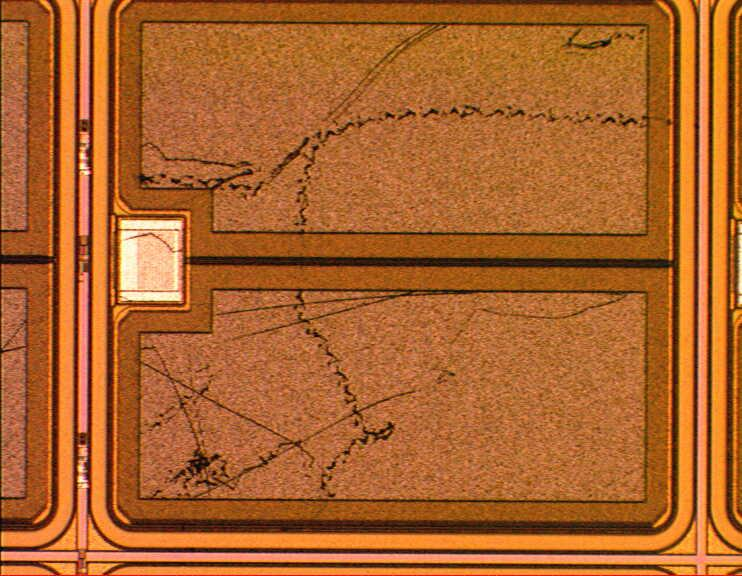SCRATCH: (1, 8, 720, 512)
